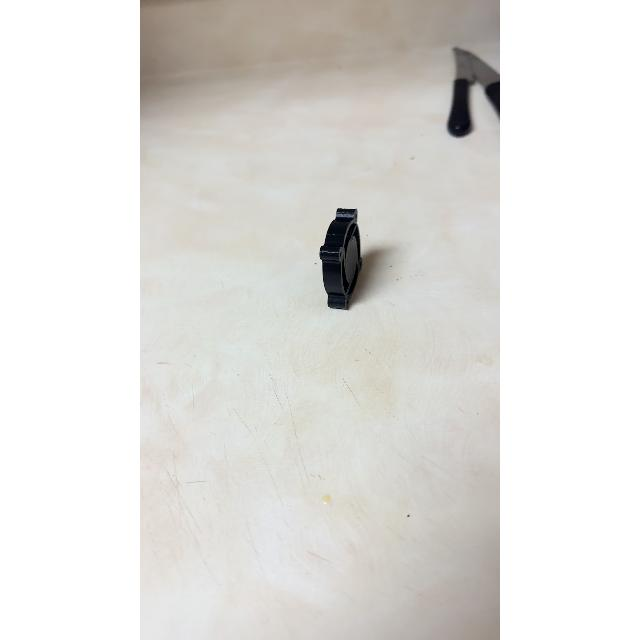Pieza_4: (299, 200, 377, 324)
